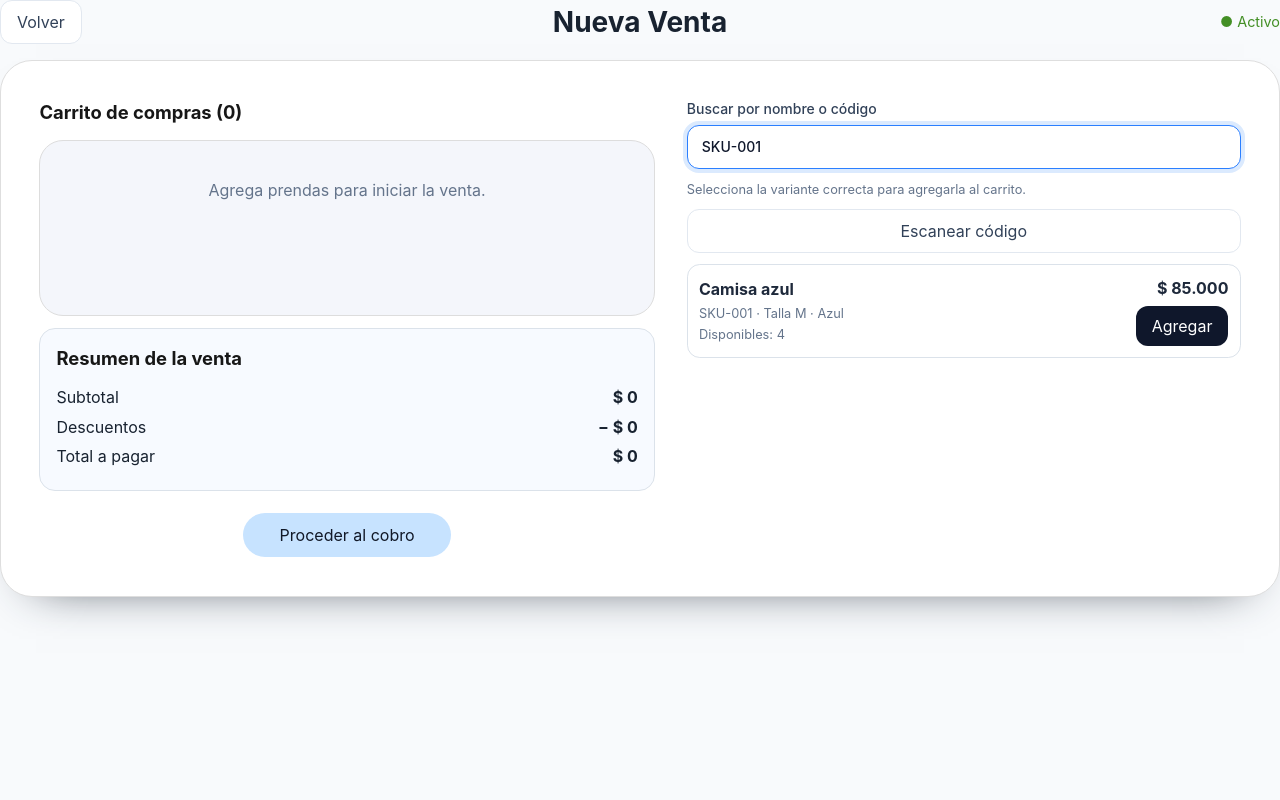
Test: SalesPage sequential flow › preserves the cart when the register closes during payment and resumes after reopening
The width and height of the screenshot is (1280, 800).
Earlier steps of the test are not shown.
Press Enter in the field labelled "Buscar por nombre o código", box [687,125,1241,169]
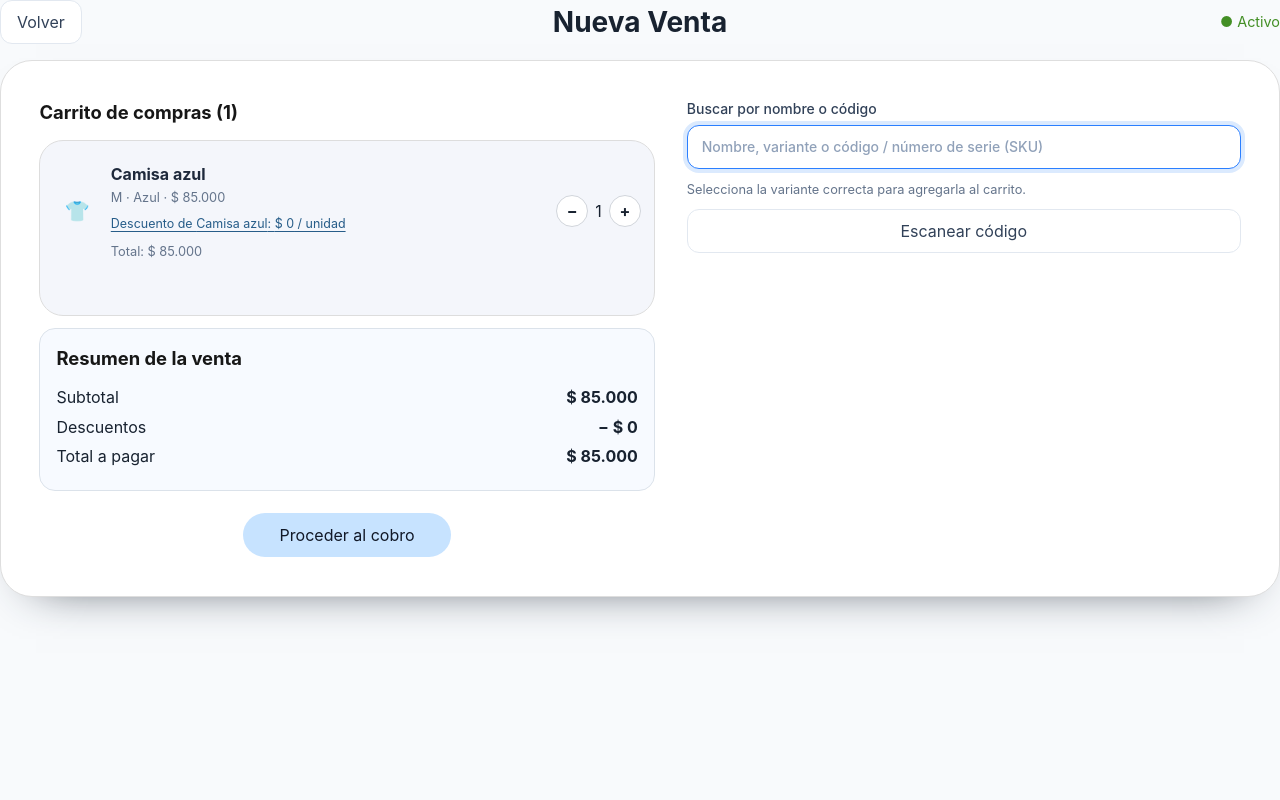
Click the button "Proceder al cobro" at (347, 535), box [243,513,451,557]
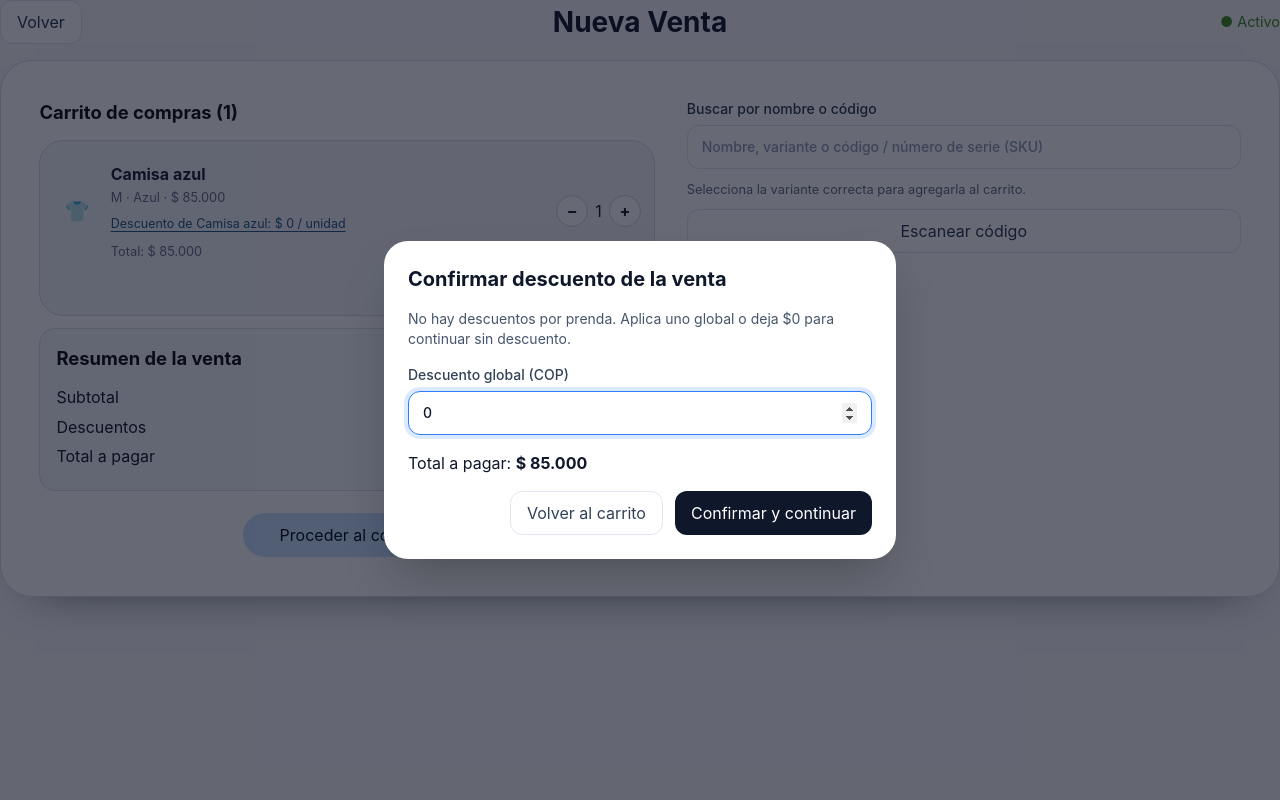
Click the button "Confirmar y continuar" at (774, 513), box [675,491,872,535]
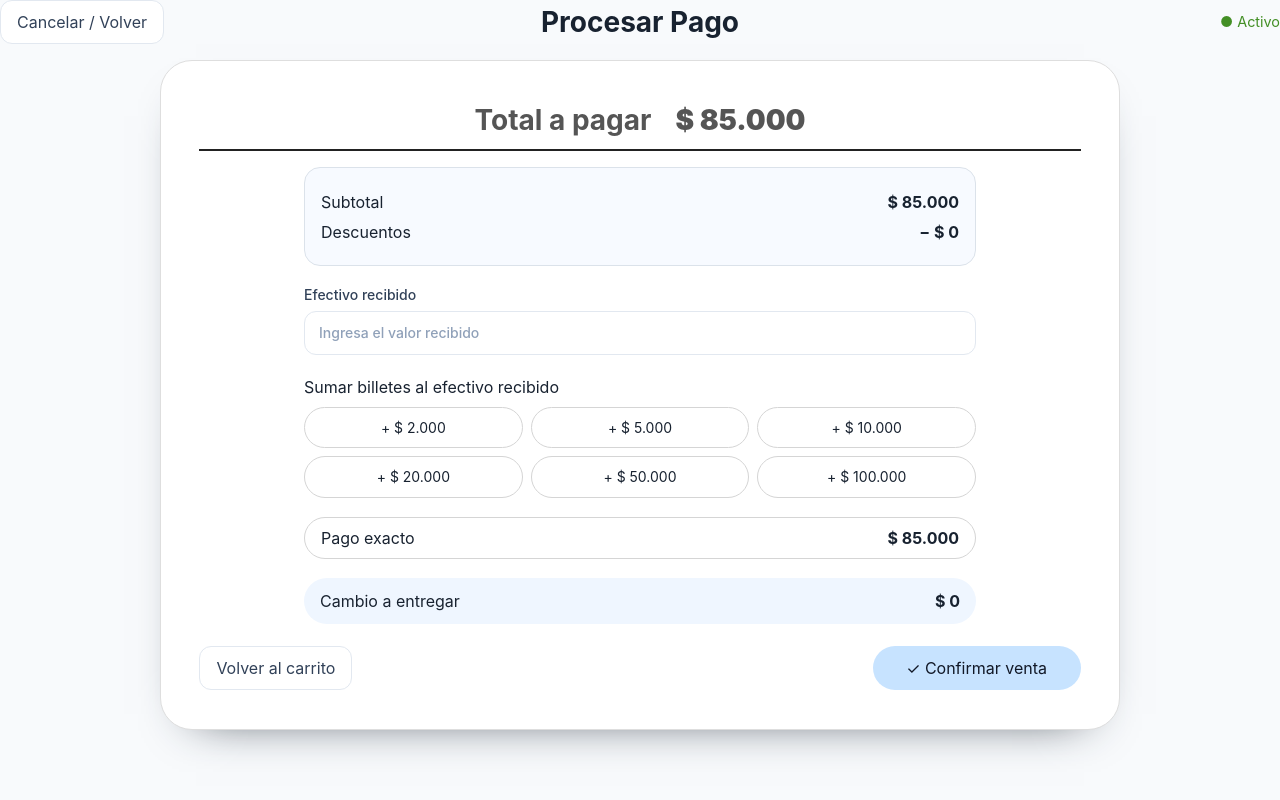
Click the button "Pago exacto $ 85.000" at (368, 538), box [304,517,976,558]
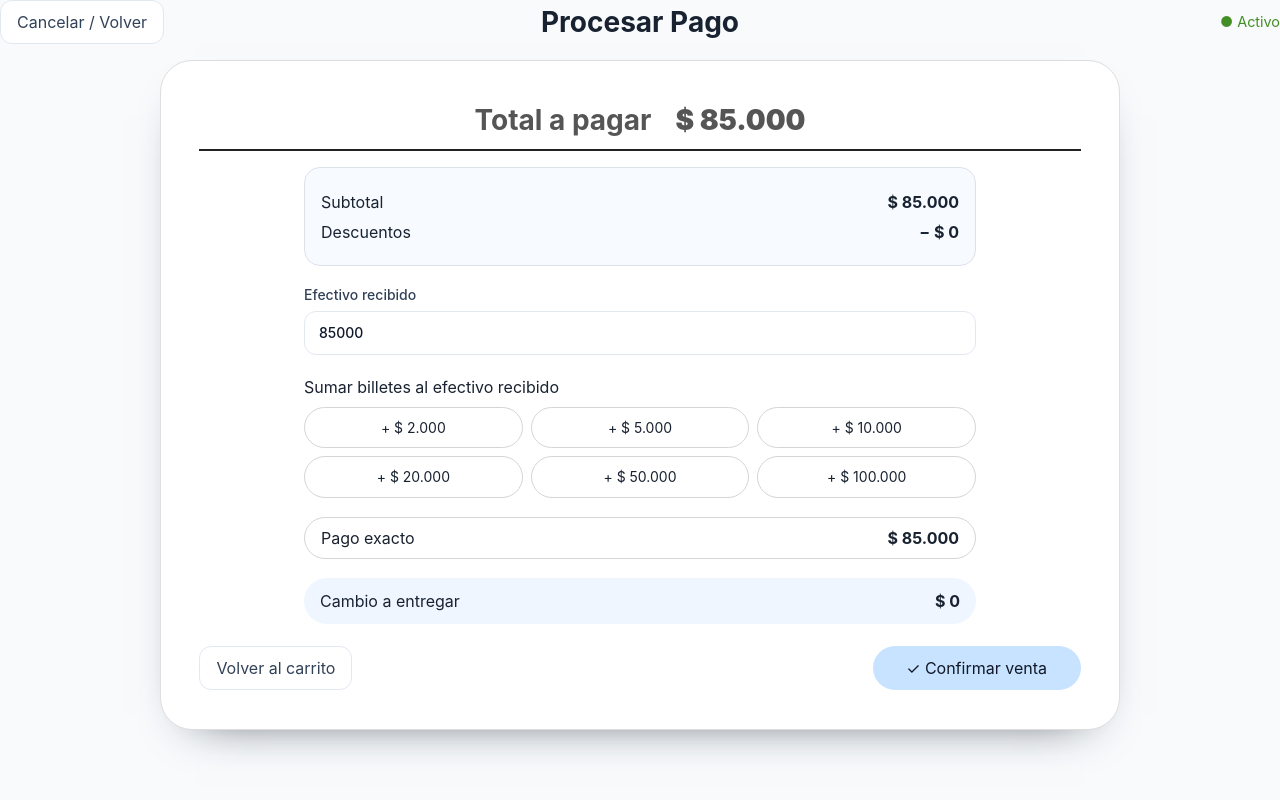
Click the button "✓ Confirmar venta" at (977, 668), box [873,646,1081,690]
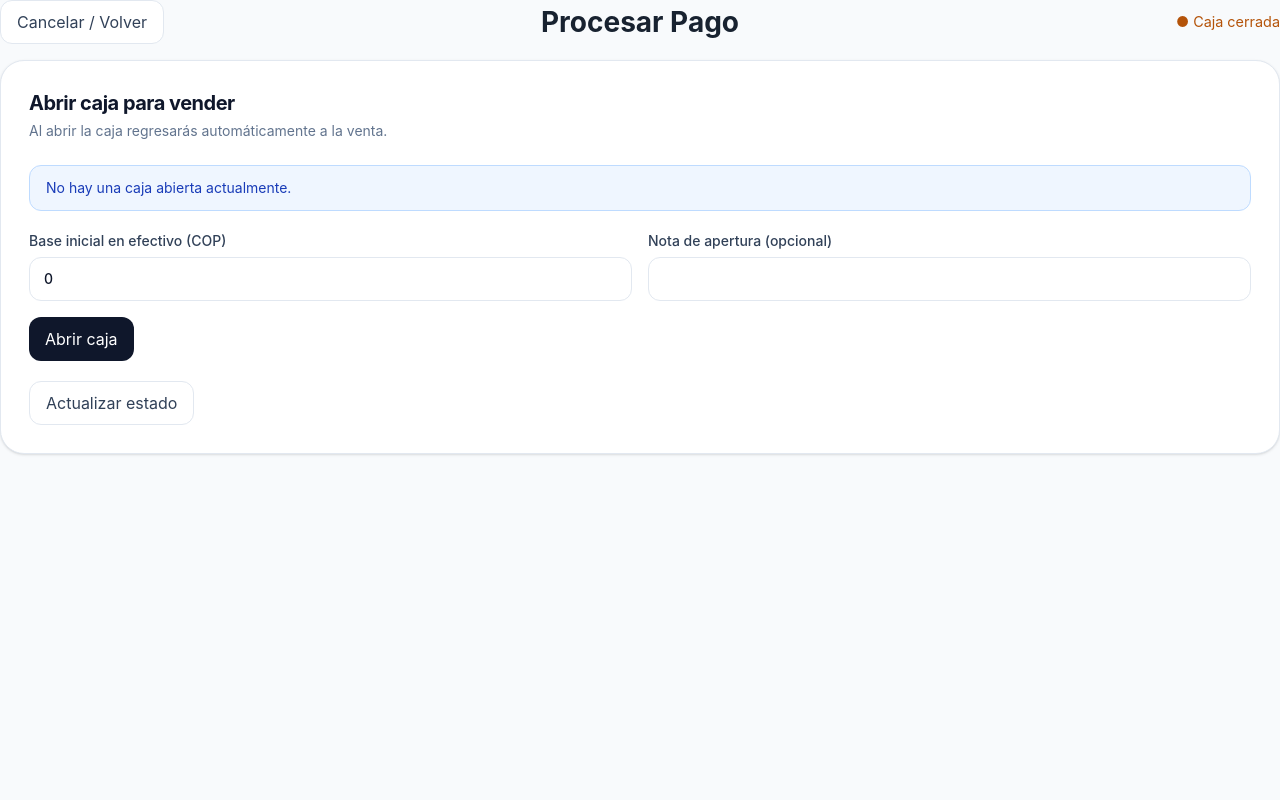
Click the button "Abrir caja" at (81, 339), box [29,317,134,361]
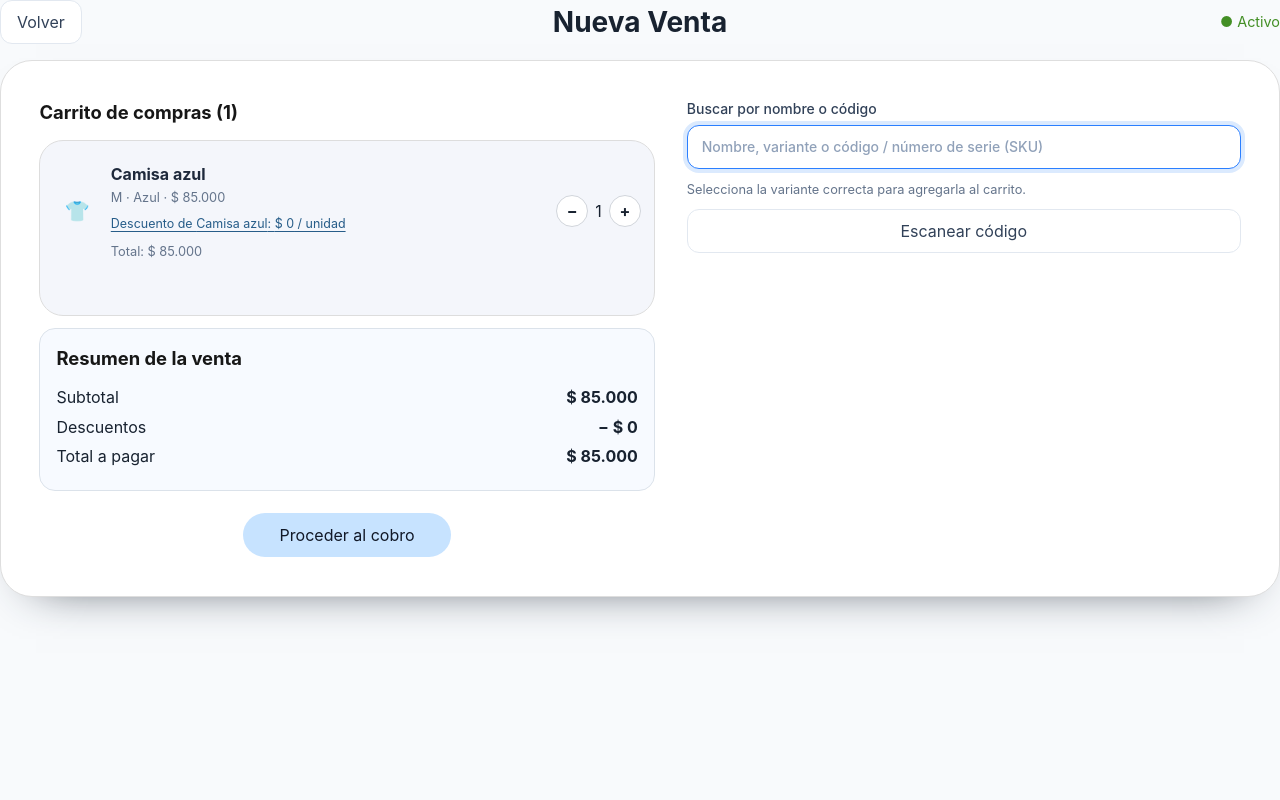
expect the field labelled "Buscar por nombre o código" is shown: met, box [687,125,1241,169]
expect the button "Proceder al cobro" is enabled: met, box [243,513,451,557]
expect the text "Camisa azul" is shown: met, box [111,164,206,184]
